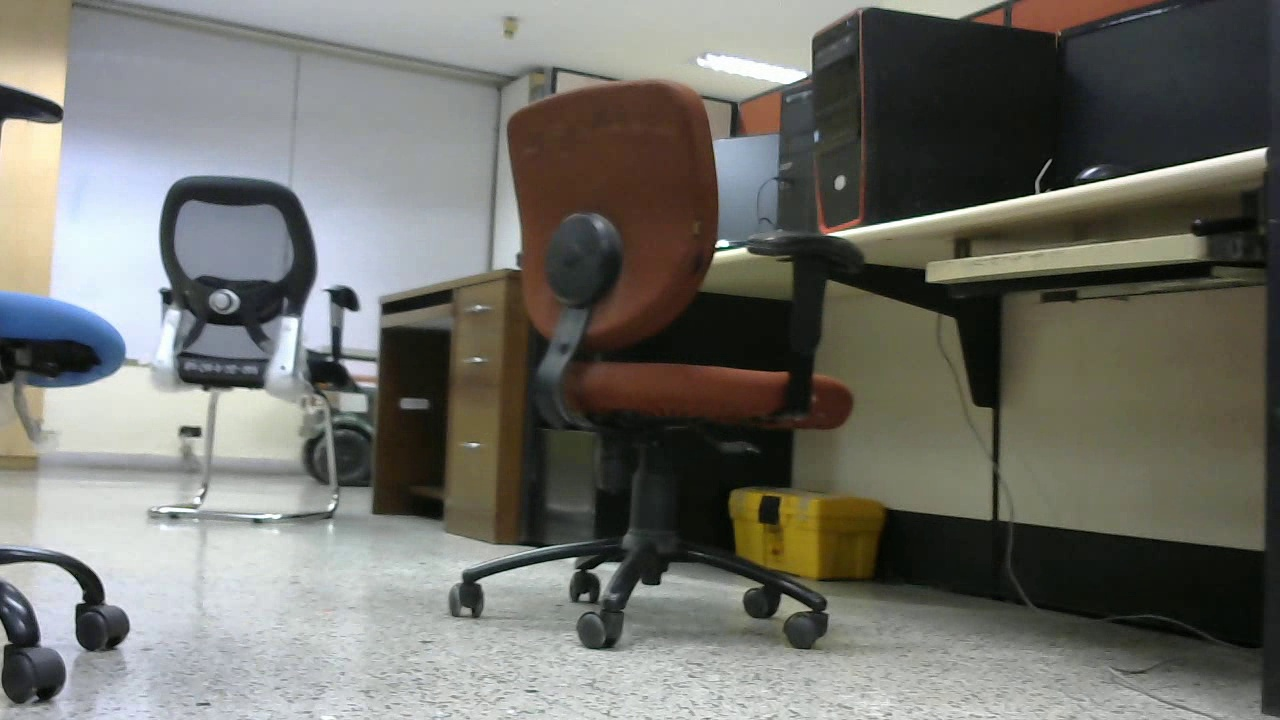chair: (442, 57, 831, 653), (123, 150, 369, 536)
